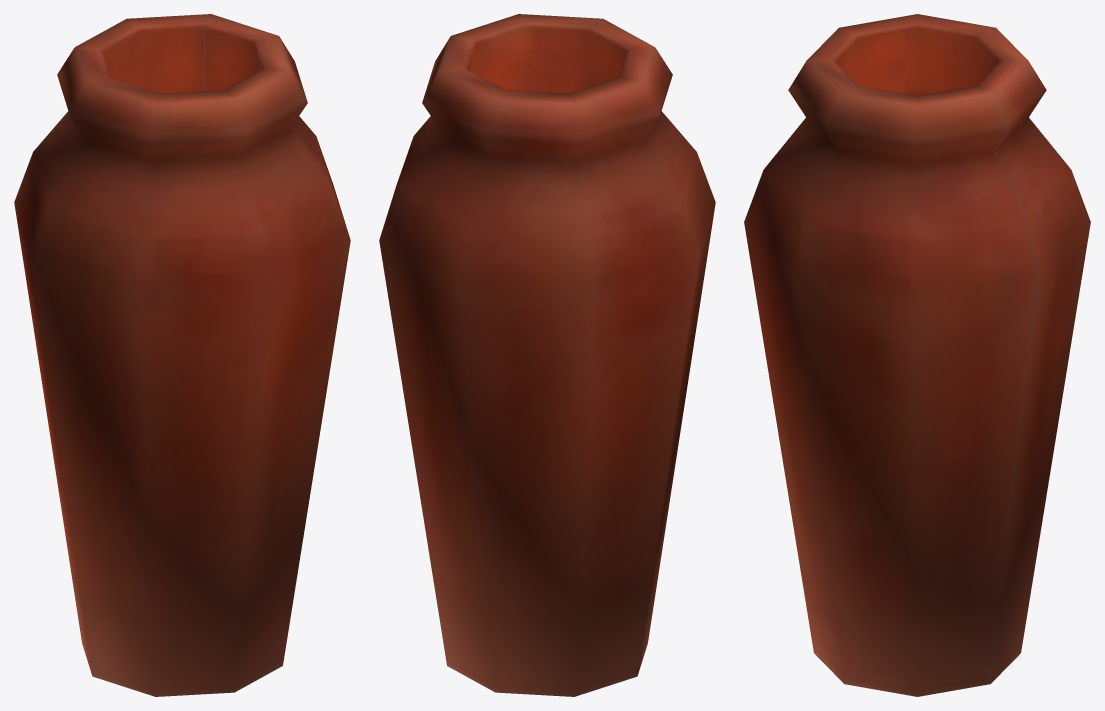
File: sd_pot.glb
3 views of the same model, side by side, from view 1: azimuth 30°, elevation 25°; view 2: azimuth 150°, elevation 25°; view 3: azimuth 270°, elevation 25° (orthographic).
Parts seen in each view (by area): view 1: pot; view 2: pot; view 3: pot.
Part boxes in pixels (bbox=[...]): pot: bbox=[14, 14, 350, 696]; pot: bbox=[379, 14, 715, 696]; pot: bbox=[744, 14, 1090, 696].
Size of the model in its own units: 0.5777 by 1.09 by 0.5777.
Materials: 1 (1 with a texture image).
